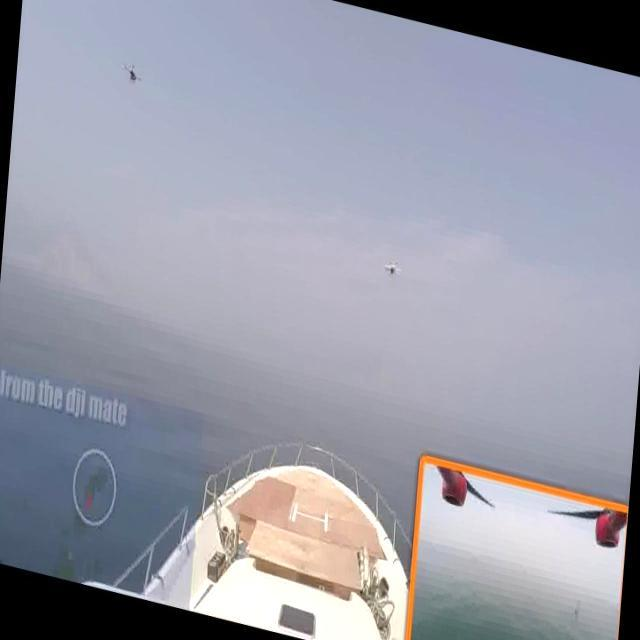drone: (118, 54, 146, 88), (378, 253, 404, 281)
